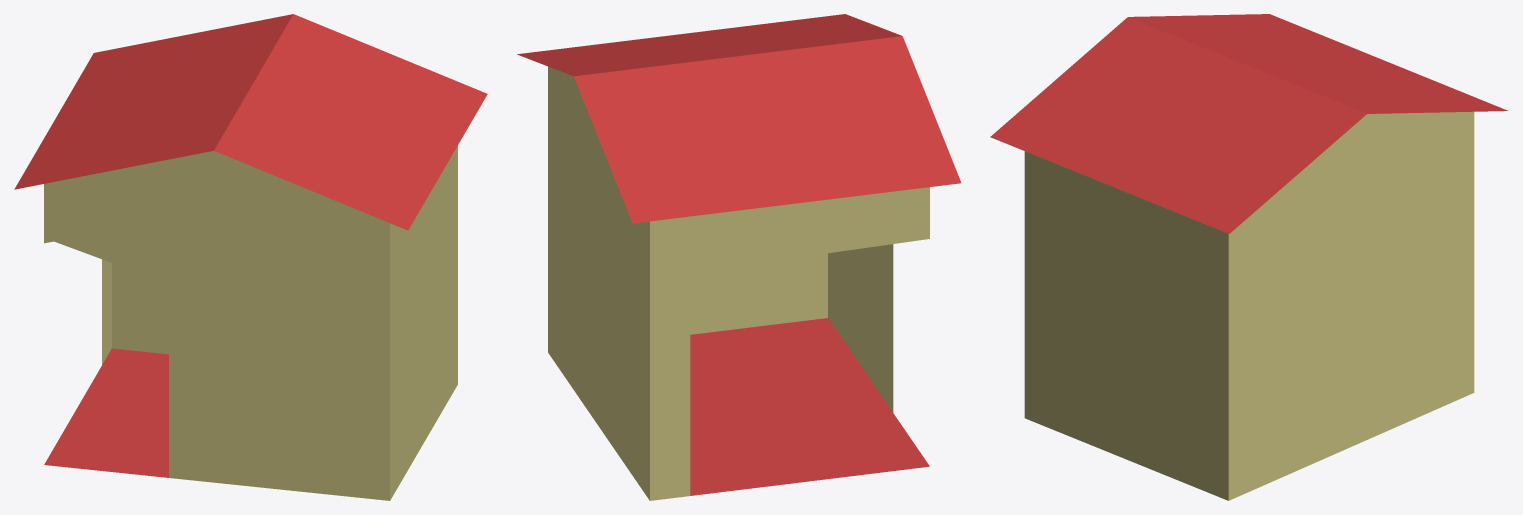
3 views of the same model, side by side, from view 1: azimuth 30°, elevation 25°; view 2: azimuth 150°, elevation 25°; view 3: azimuth 270°, elevation 25° (orthographic). The views are drawn at different scales.
Visible parts, largest first — view 1: group_5, group_3, group_6; view 2: group_5, group_3, group_6; view 3: group_5, group_3.
Part boxes in pixels (x1,y1,x2,y2): group_5: [44, 146, 457, 500]; group_3: [14, 14, 487, 230]; group_6: [44, 348, 168, 477]; group_5: [548, 66, 929, 500]; group_3: [517, 14, 961, 223]; group_6: [690, 318, 929, 495]; group_5: [1024, 111, 1474, 500]; group_3: [990, 14, 1507, 233].
Bounding box in the file's own units: 15.9 × 15.83 × 11.48.
